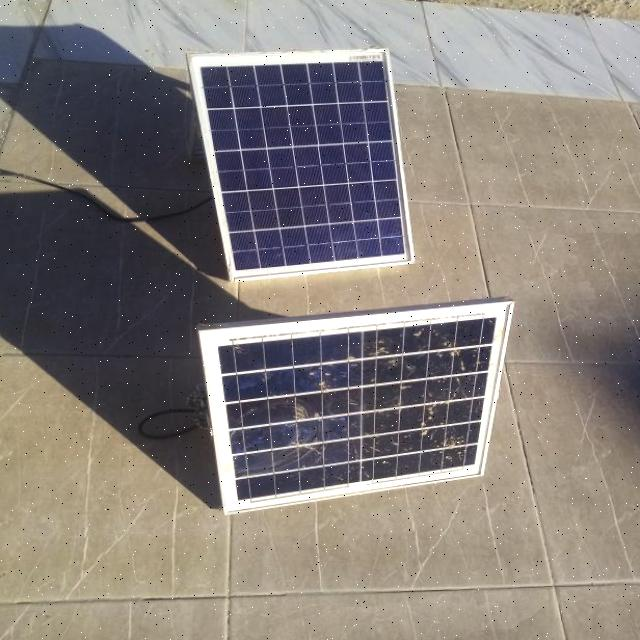Normal Solar Panel: (188, 48, 414, 280)
